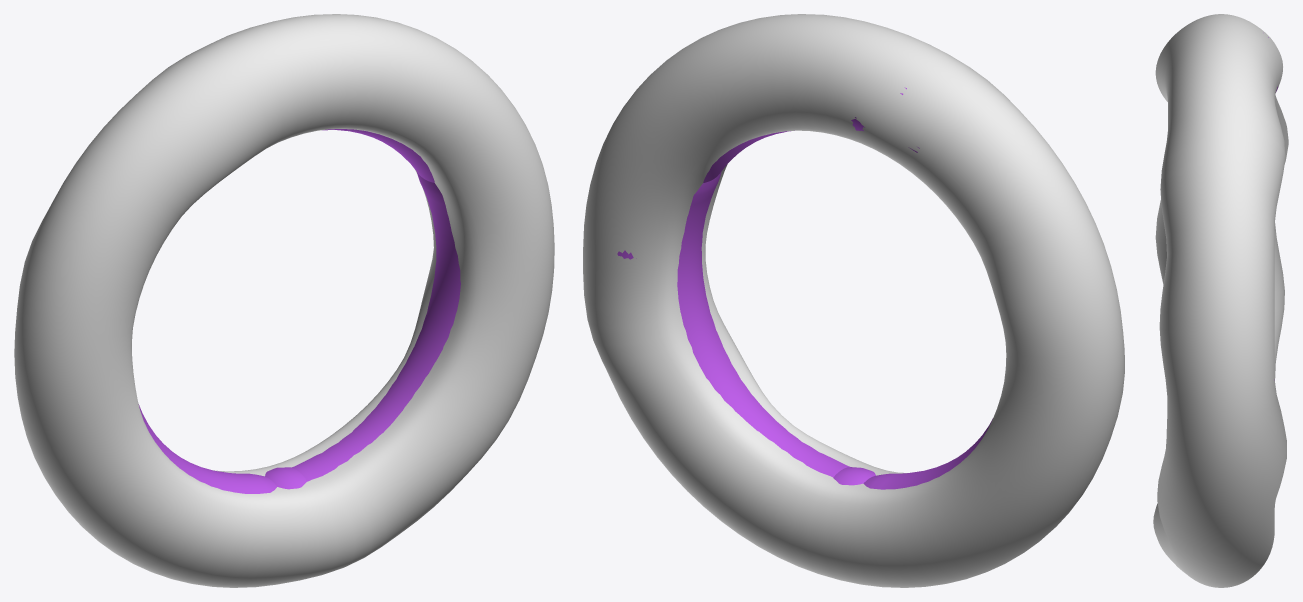
Rendered from Ring all parts.fbx.
3 views of the same model, side by side, from view 1: azimuth 30°, elevation 25°; view 2: azimuth 150°, elevation 25°; view 3: azimuth 270°, elevation 25° (orthographic). The views are drawn at different scales.
Visible parts, largest first — view 1: Final, 2 Ring, 1 Ring, 3 Ring; view 2: Final, 2 Ring, 1 Ring, 3 Ring; view 3: Final.
Boxes of the visible parts, x1,y1,x2,y2 form: Final: (14,14,554,587); 2 Ring: (291,172,460,481); 1 Ring: (138,404,277,493); 3 Ring: (322,129,434,182); Final: (583,14,1124,587); 2 Ring: (617,172,849,477); 1 Ring: (863,418,992,489); 3 Ring: (703,87,919,182); Final: (1153,14,1288,587).
Size of the model in its own units: 1081 by 1083 by 255.
